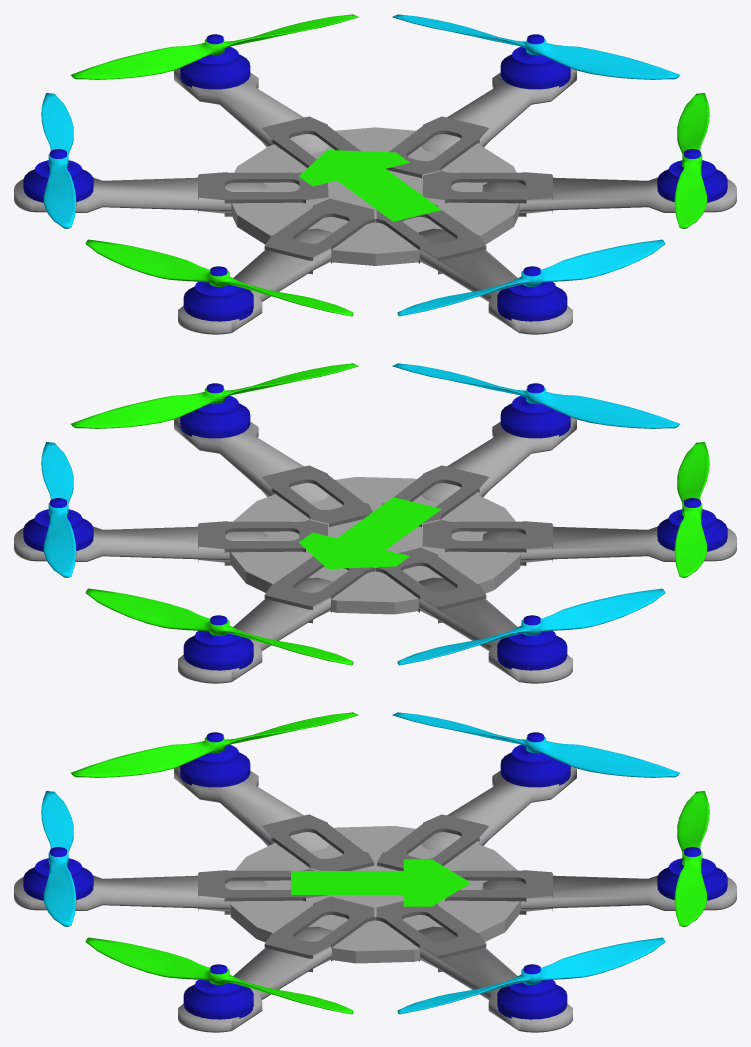
Rendered from hex_plus2.gltf.
3 views of the same model, one above another, from view 1: azimuth 30°, elevation 25°; view 2: azimuth 150°, elevation 25°; view 3: azimuth 270°, elevation 25° (orthographic).
Parts seen in each view (by area): view 1: hex+; view 2: hex+; view 3: hex+.
Part boxes in pixels (x1=…): hex+: x1=14, y1=14, x2=736, y2=334; hex+: x1=14, y1=363, x2=736, y2=683; hex+: x1=14, y1=712, x2=736, y2=1032.
Size of the model in its own units: 0.9796 by 0.0757 by 0.9922.
